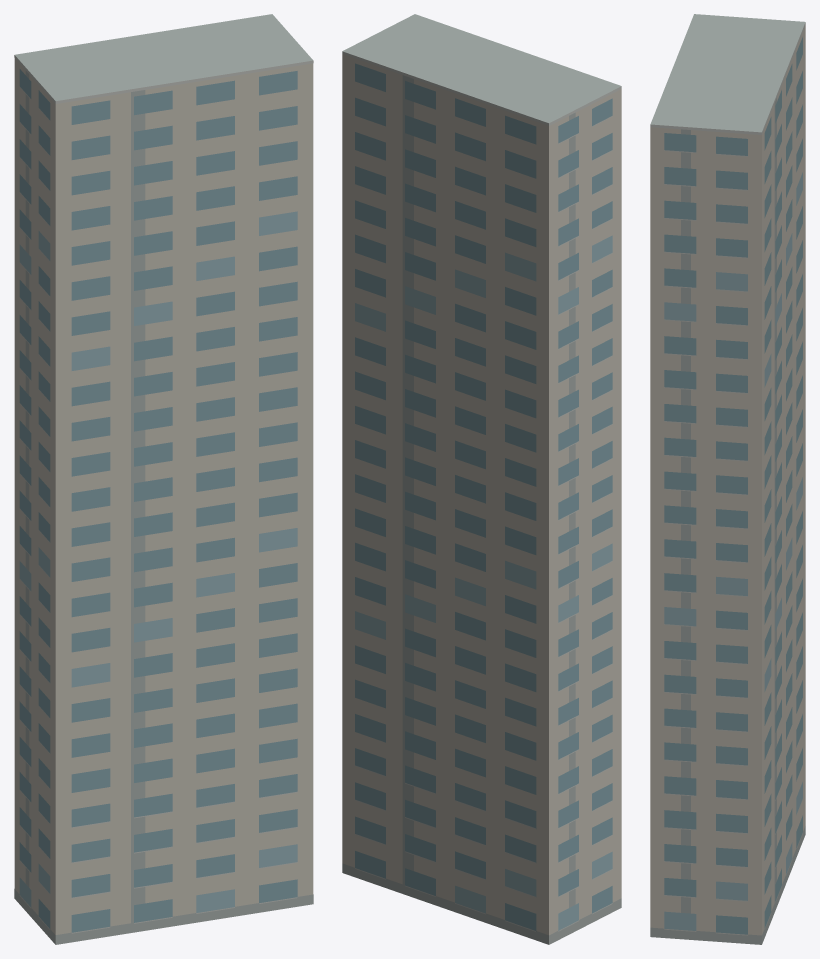
File: residential-81f58103-e6b1-4b95-aad6-713e9434f99b.glb
3 renders of one model, left to right at view 1: azimuth 30°, elevation 25°; view 2: azimuth 150°, elevation 25°; view 3: azimuth 270°, elevation 25°, orthographic. The views are drawn at different scales.
Visible parts, largest first — view 1: residential-81f58103-e6b1-4b95-aad6-713e9434f99b.tmp; view 2: residential-81f58103-e6b1-4b95-aad6-713e9434f99b.tmp; view 3: residential-81f58103-e6b1-4b95-aad6-713e9434f99b.tmp.
Part boxes in pixels (x1,y1,x2,y2): residential-81f58103-e6b1-4b95-aad6-713e9434f99b.tmp: [14, 14, 313, 944]; residential-81f58103-e6b1-4b95-aad6-713e9434f99b.tmp: [342, 14, 621, 944]; residential-81f58103-e6b1-4b95-aad6-713e9434f99b.tmp: [650, 14, 805, 944].
Bounding box in the file's own units: 22.88 × 73.2 × 12.69.
